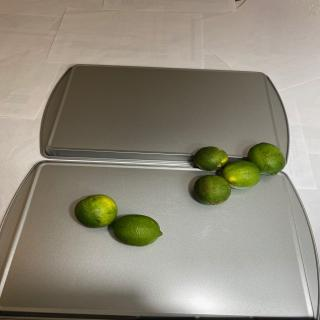Lemon: (112, 214, 163, 247), (74, 194, 118, 228), (247, 142, 286, 176), (193, 174, 231, 206), (221, 160, 261, 189), (194, 146, 228, 171)
